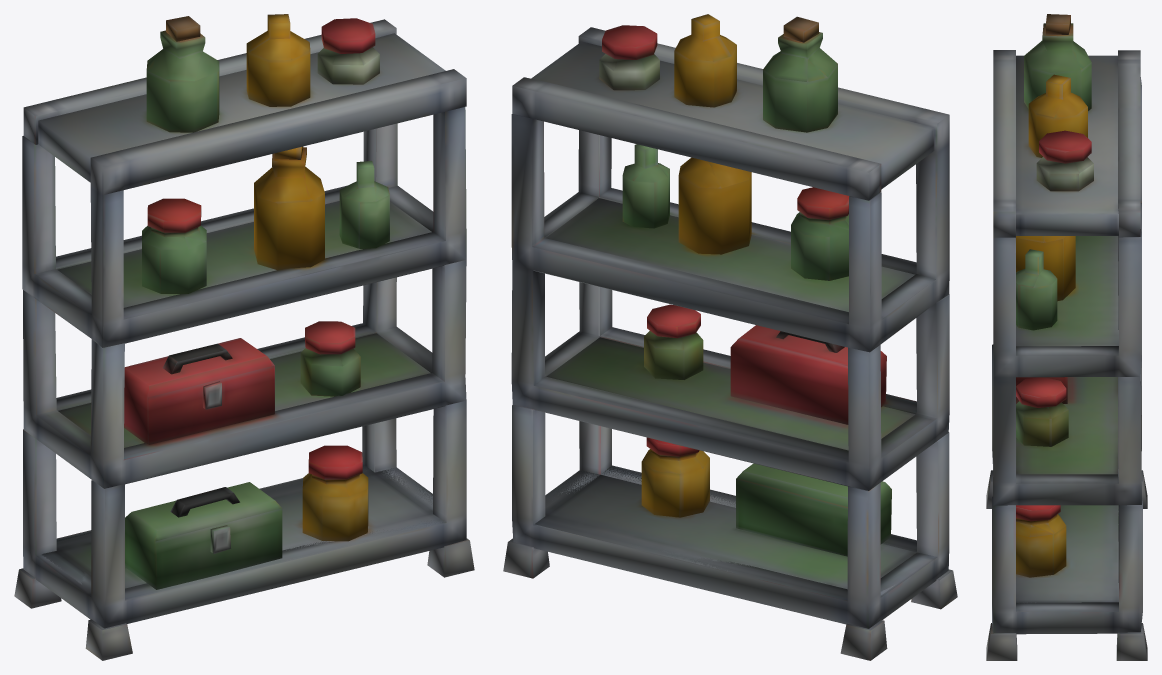
Rendered from shelf_bottles.glb.
The picture shows the model from 3 angles, left to right: view 1: azimuth 30°, elevation 25°; view 2: azimuth 150°, elevation 25°; view 3: azimuth 270°, elevation 25°; orthographic projection. The views are drawn at different scales.
Visible parts, largest first — view 1: tripo_node_798c6930-5cd3-4128-81b0-a80e6e89b3cf; view 2: tripo_node_798c6930-5cd3-4128-81b0-a80e6e89b3cf; view 3: tripo_node_798c6930-5cd3-4128-81b0-a80e6e89b3cf.
Boxes of the visible parts, x1,y1,x2,y2 form: tripo_node_798c6930-5cd3-4128-81b0-a80e6e89b3cf: (14, 14, 474, 660); tripo_node_798c6930-5cd3-4128-81b0-a80e6e89b3cf: (503, 14, 957, 660); tripo_node_798c6930-5cd3-4128-81b0-a80e6e89b3cf: (986, 14, 1147, 660).
Bounding box in the file's own units: 0.6699 × 0.998 × 0.2754.
Materials: 1 (1 with a texture image).
